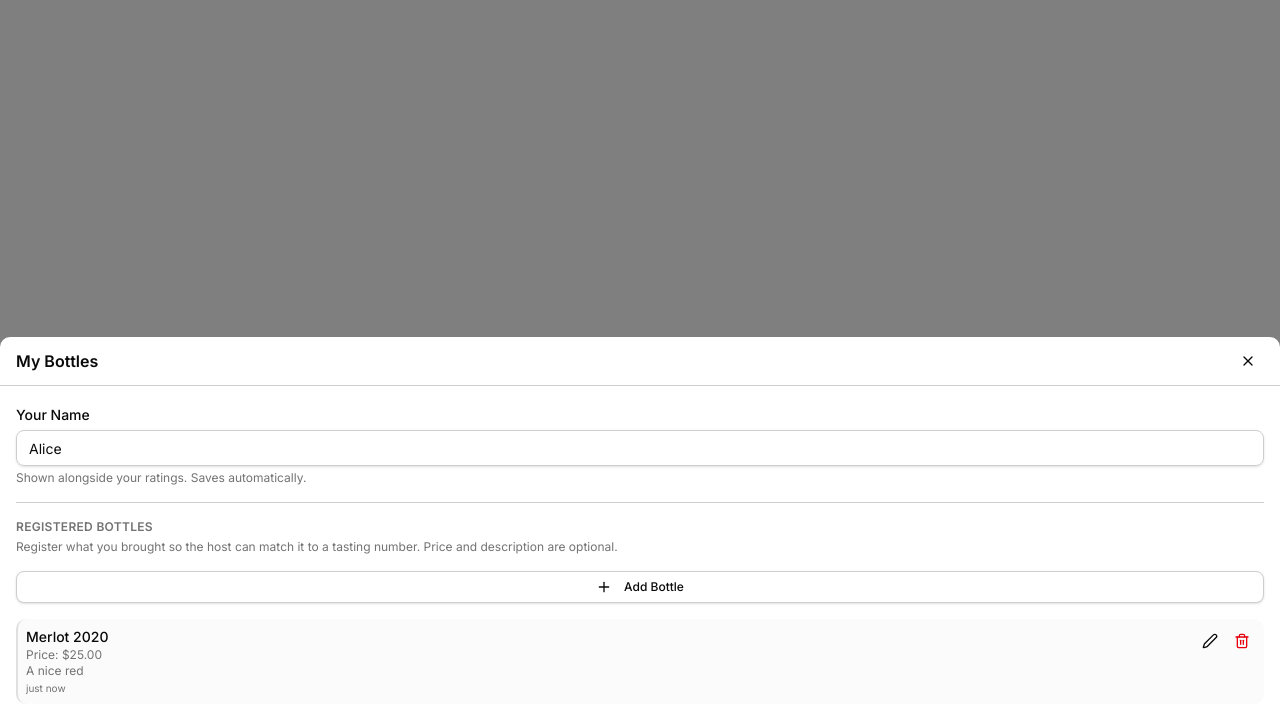
Test: MyBottlesSheet › optimistically removes item and shows undo toast on delete
This screenshot has width=1280, height=720.
Click the button with test id "delete-btn-item-1" at (1242, 641), box left=1228, top=627, right=1256, bottom=655
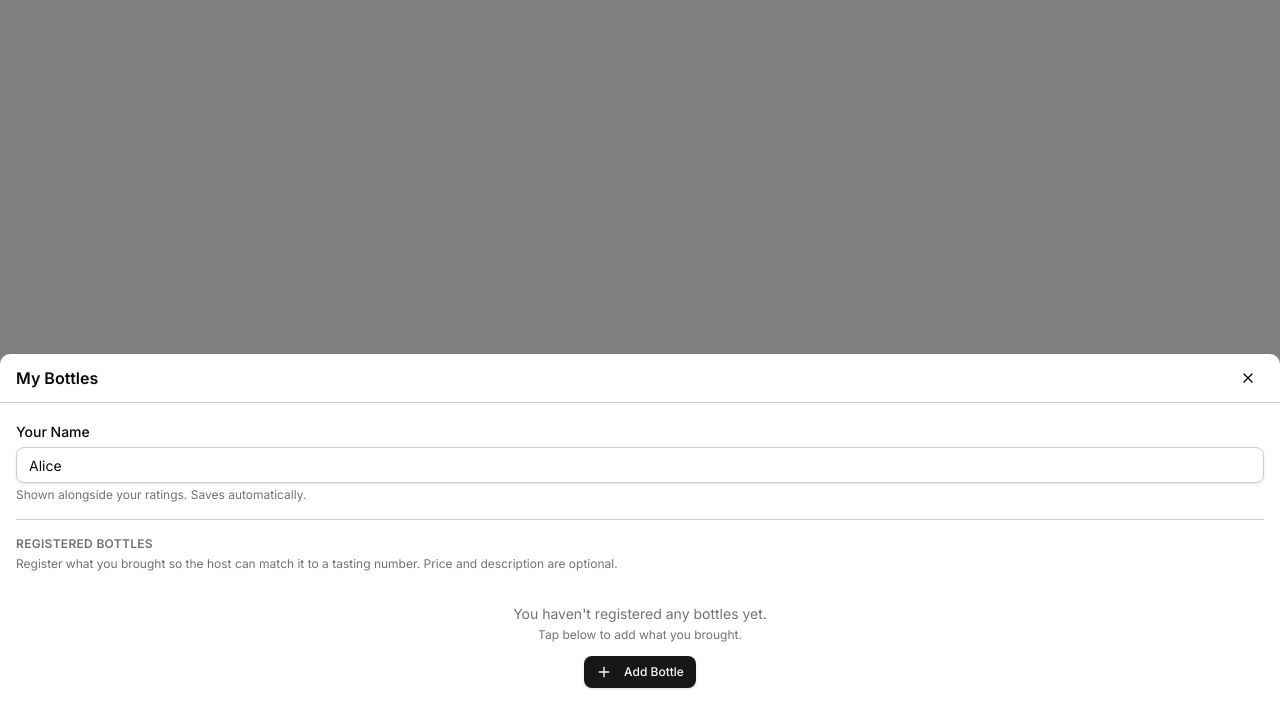
Now the text "Merlot 2020" is gone
